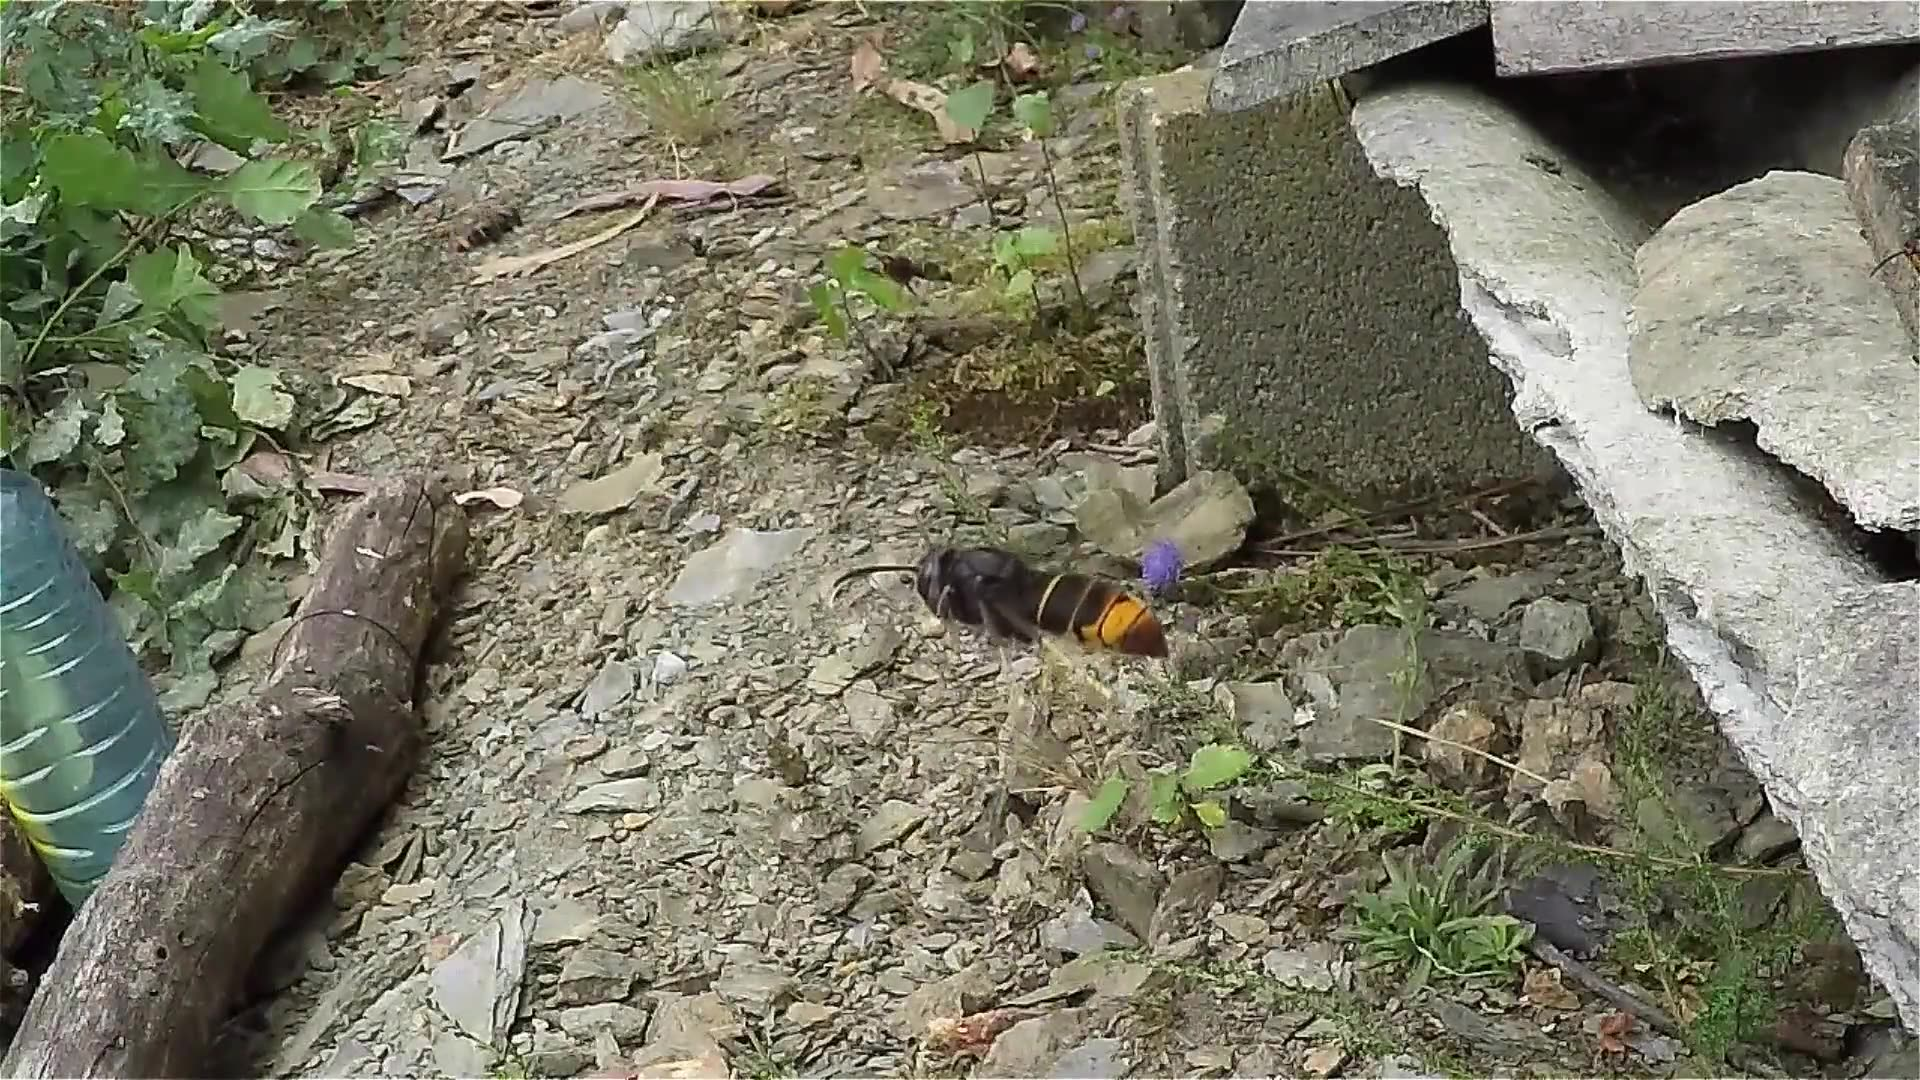hornet: (895, 516, 1182, 679), (450, 200, 526, 262), (877, 247, 961, 301)
